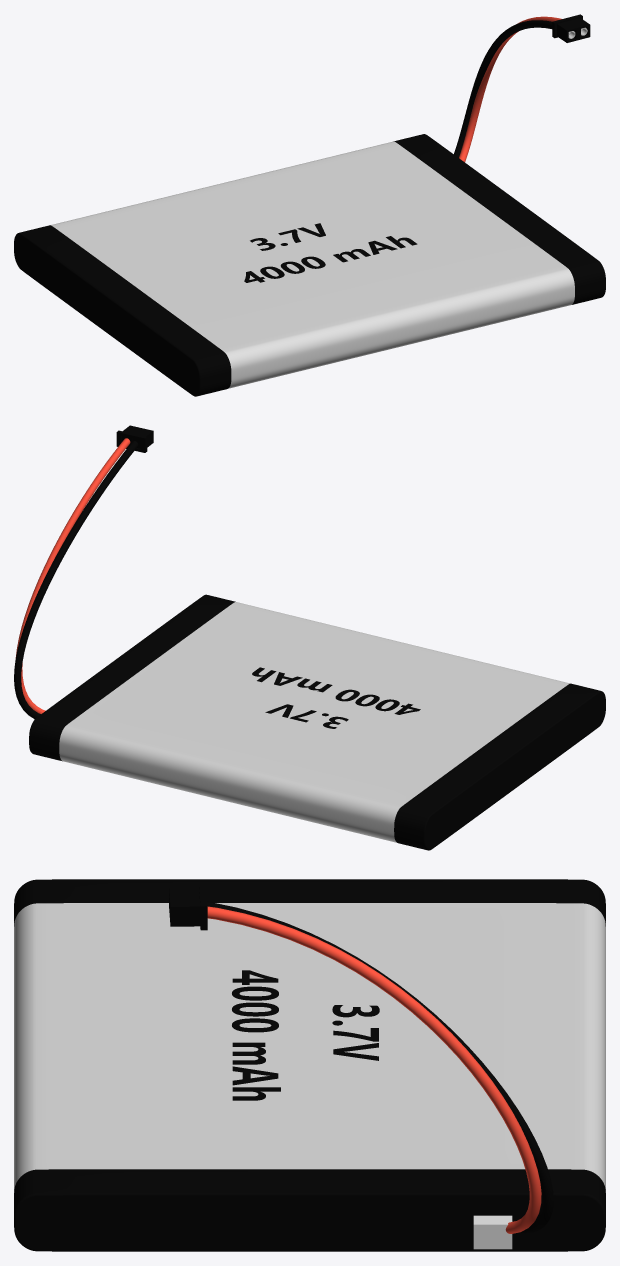
The model's file is Li-ion Battery.fbx.
3 views of the same model, one above another, from view 1: azimuth 30°, elevation 25°; view 2: azimuth 150°, elevation 25°; view 3: azimuth 270°, elevation 25° (orthographic). The views are drawn at different scales.
Parts seen in each view (by area): view 1: Battery, Text, Wire 1, Wire 2, Connector; view 2: Battery, Wire 1, Wire 2, Text, Connector; view 3: Battery, Wire 2, Text, Wire 1, Connector, Cube.001.
Boxes of the visible parts, left/top/right/bottom form: Battery: left=14, top=134, right=605, bottom=396; Text: left=244, top=223, right=417, bottom=282; Wire 1: left=454, top=20, right=552, bottom=157; Wire 2: left=459, top=16, right=561, bottom=162; Connector: left=552, top=14, right=590, bottom=42; Battery: left=29, top=594, right=605, bottom=850; Wire 1: left=14, top=441, right=138, bottom=719; Wire 2: left=15, top=438, right=130, bottom=713; Text: left=252, top=667, right=420, bottom=728; Connector: left=116, top=425, right=153, bottom=452; Battery: left=14, top=879, right=605, bottom=1251; Wire 2: left=207, top=906, right=541, bottom=1233; Text: left=232, top=970, right=379, bottom=1100; Wire 1: left=207, top=901, right=553, bottom=1233; Connector: left=169, top=884, right=207, bottom=930; Cube.001: left=473, top=1215, right=512, bottom=1249.
Bounding box in the file's own units: 275 × 139 × 200.
